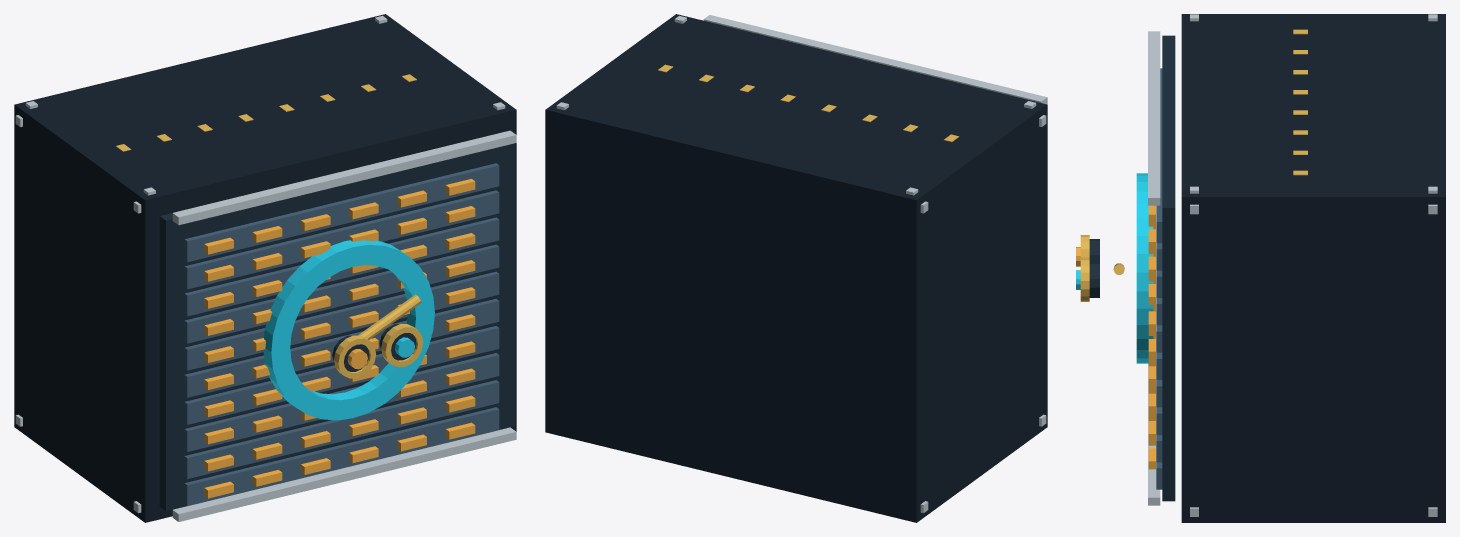
Rendered from 38_L81_HardwareWatchdogTimer.fbx.
3 renders of one model, left to right at view 1: azimuth 30°, elevation 25°; view 2: azimuth 150°, elevation 25°; view 3: azimuth 270°, elevation 25°, orthographic.
Visible parts, largest first — view 1: HardwareWatchdogTimer, HardwareWatchdogTimer_Part_0090, HardwareWatchdogTimer_Part_0091; view 2: HardwareWatchdogTimer; view 3: HardwareWatchdogTimer, HardwareWatchdogTimer_Part_0090.
Boxes of the visible parts, left/top/right/bottom form: HardwareWatchdogTimer: left=14, top=14, right=516, bottom=522; HardwareWatchdogTimer_Part_0090: left=263, top=240, right=434, bottom=420; HardwareWatchdogTimer_Part_0091: left=358, top=294, right=421, bottom=339; HardwareWatchdogTimer: left=545, top=14, right=1047, bottom=522; HardwareWatchdogTimer: left=1076, top=14, right=1445, bottom=522; HardwareWatchdogTimer_Part_0090: left=1136, top=173, right=1153, bottom=363.
Size of the model in its own units: 120 by 99.8 by 101.
